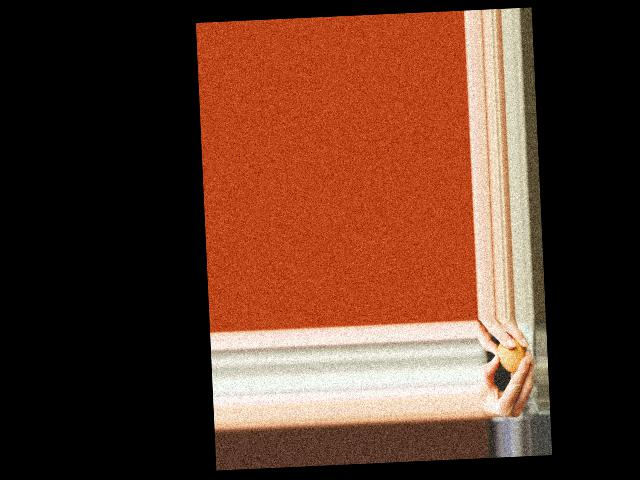egg: (496, 337, 526, 373)
